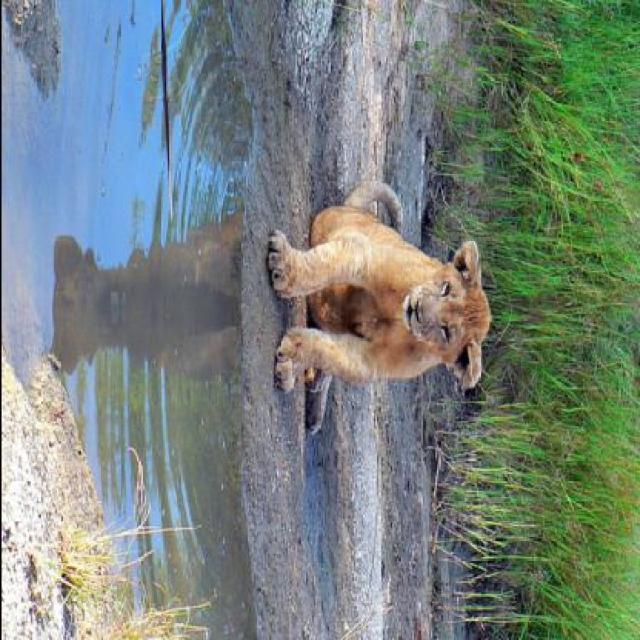Lion: (242, 169, 518, 469)
